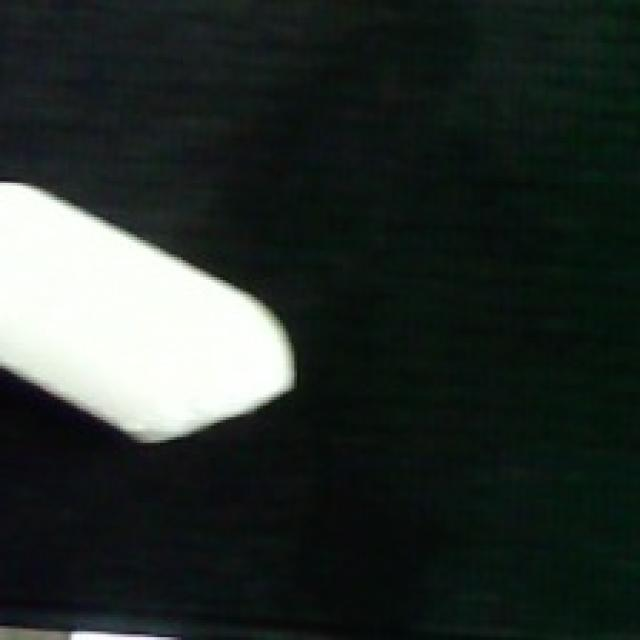defected: (0, 180, 300, 446)
